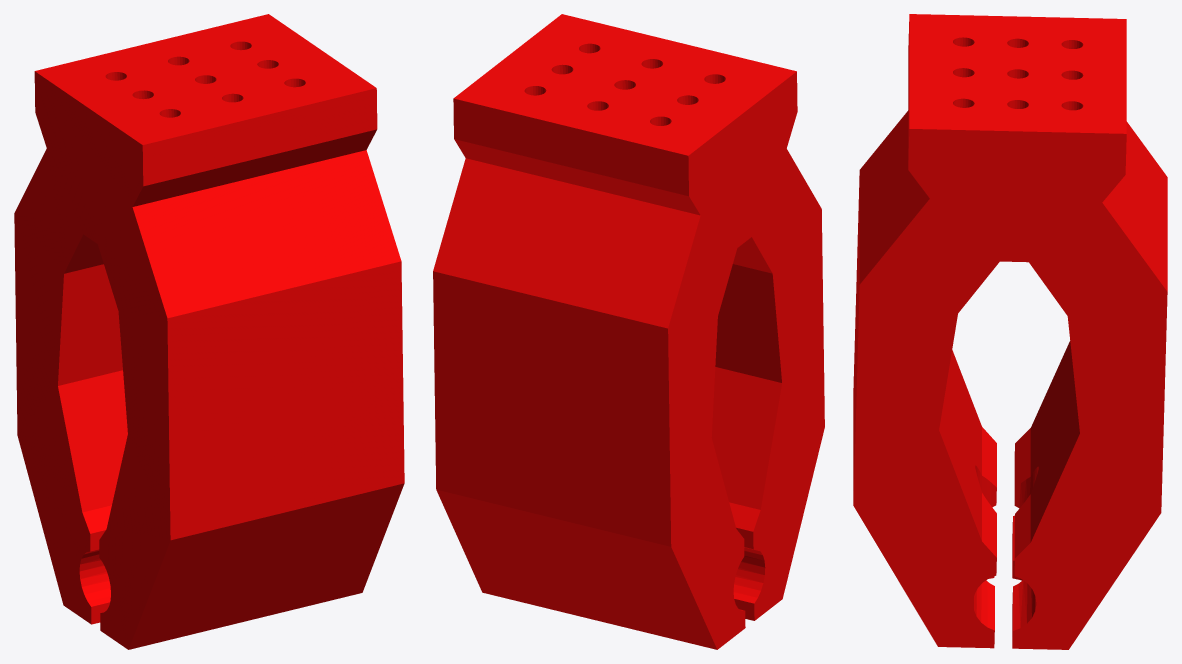
File: Left_hand.dae
3 renders of one model, left to right at view 1: azimuth 30°, elevation 25°; view 2: azimuth 150°, elevation 25°; view 3: azimuth 270°, elevation 25°, orthographic.
Visible parts, largest first — view 1: hand_left; view 2: hand_left; view 3: hand_left.
Part boxes in pixels (left/top/right/bottom): hand_left: left=14, top=14, right=404, bottom=649; hand_left: left=433, top=14, right=824, bottom=649; hand_left: left=853, top=14, right=1167, bottom=649.
Bounding box in the file's own units: 0.03 × 0.0347 × 0.0635.
